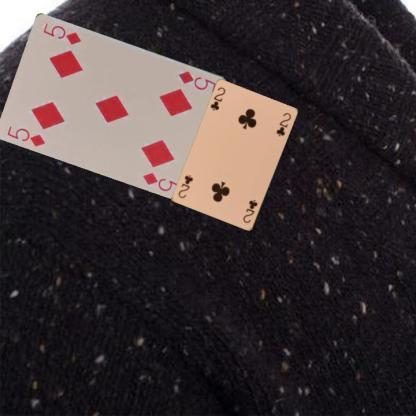2c: (208, 85, 226, 112), (240, 198, 258, 224)
5d: (174, 68, 218, 94), (4, 123, 46, 148)
